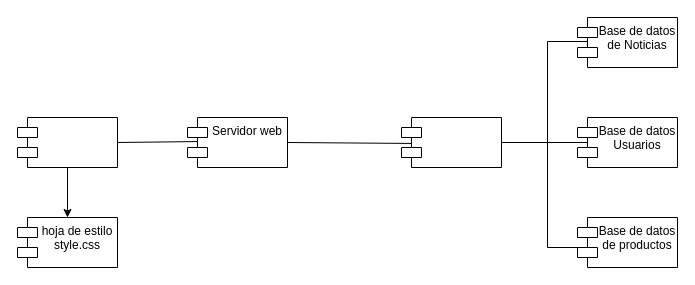
The diagram is 695 pixels wide and 285 high, and some of its shapes have lost their labels. Each missing label, with the centre of its shape:
API conexion BD: the point at 451,142
página web index.html: the point at 67,142
